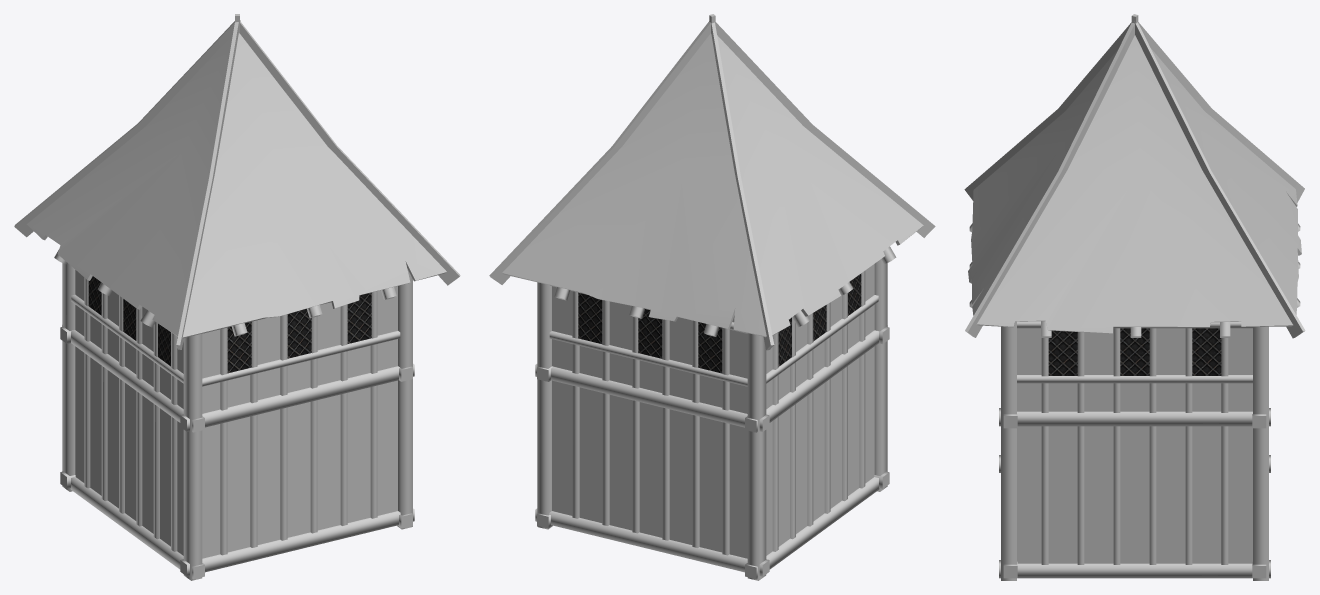
File: Tower_top3_LOD0.fbx
The picture shows the model from 3 angles, left to right: view 1: azimuth 30°, elevation 25°; view 2: azimuth 150°, elevation 25°; view 3: azimuth 270°, elevation 25°; orthographic projection. The views are drawn at different scales.
Visible parts, largest first — view 1: polySurface1937; view 2: polySurface1937; view 3: polySurface1937.
Part boxes in pixels (x1,y1,x2,y2): polySurface1937: (14,14,460,580); polySurface1937: (489,14,935,580); polySurface1937: (964,14,1305,580).
Size of the model in its own units: 9.49 by 15.64 by 9.49.
